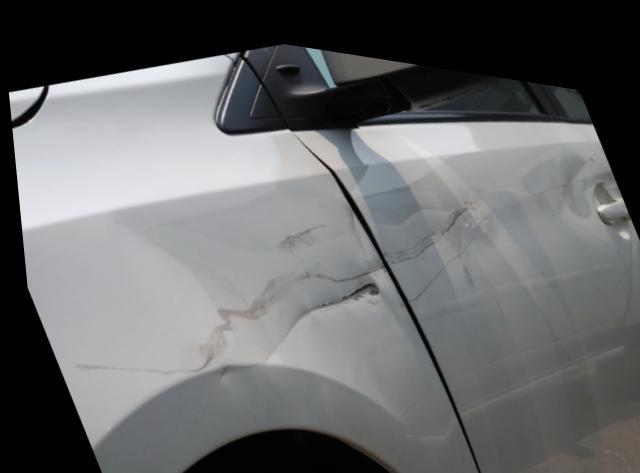dent: (105, 177, 382, 384)
scratch: (378, 175, 487, 294), (63, 351, 206, 373)
